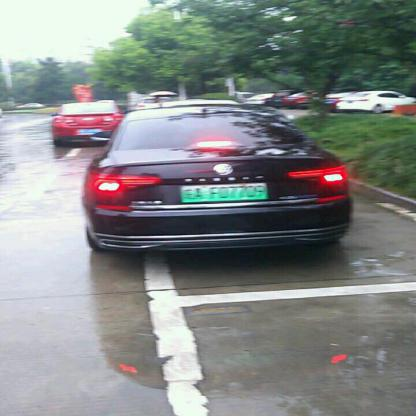lp: (182, 181, 267, 202)
